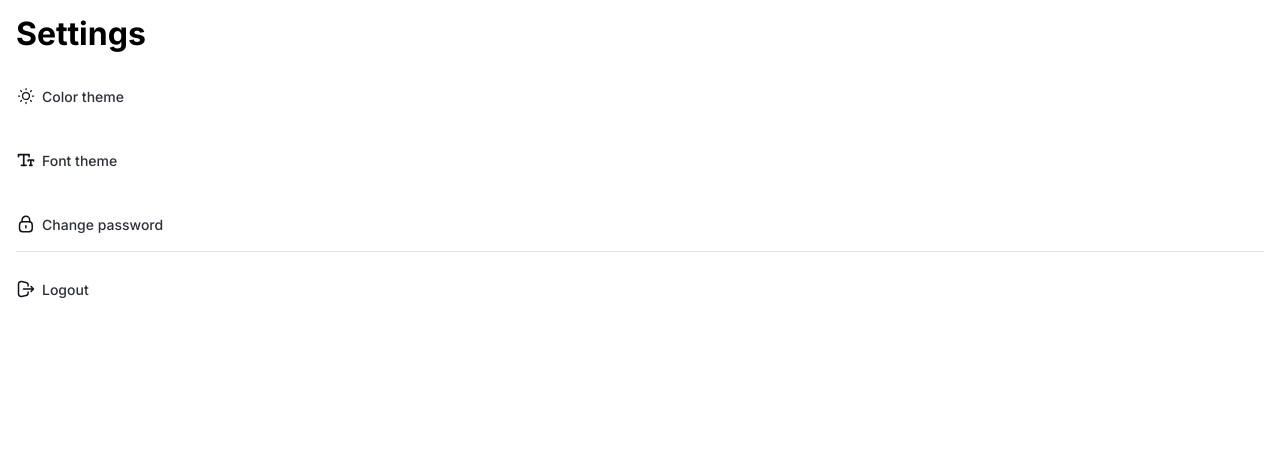
Test: test settings component › user selects a setting option
Click the button with test id "option" showing "Color theme" at coordinates (83, 96), box [16, 69, 1264, 123]
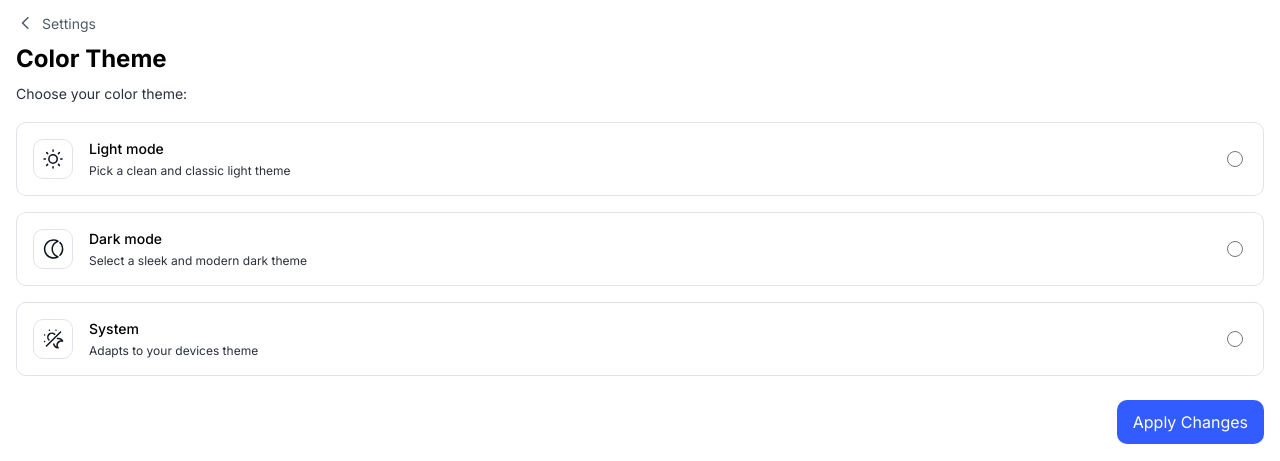
Expected: the form with test id "form" is shown
